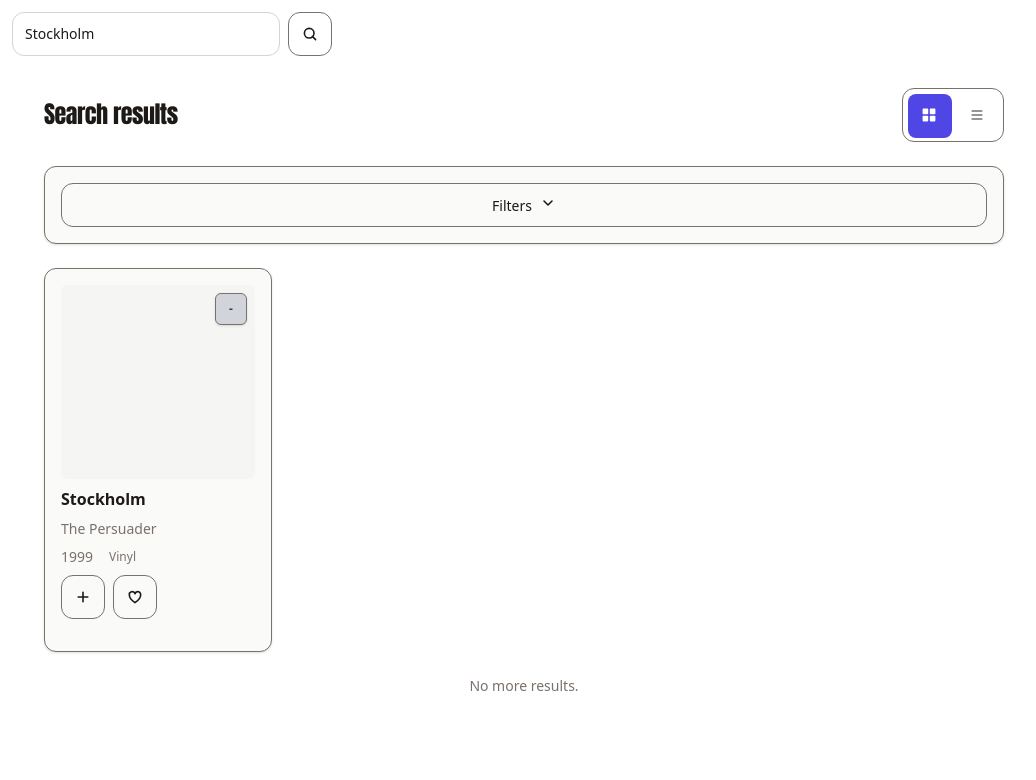
Search results flow (US2) › renders matching result cards with a working add action from a query already in the URL
Expected: the text "Stockholm" is shown, x1=61 y1=488 x2=146 y2=510
Click the button named "add to library" at (83, 597), box x1=61 y1=575 x2=105 y2=619
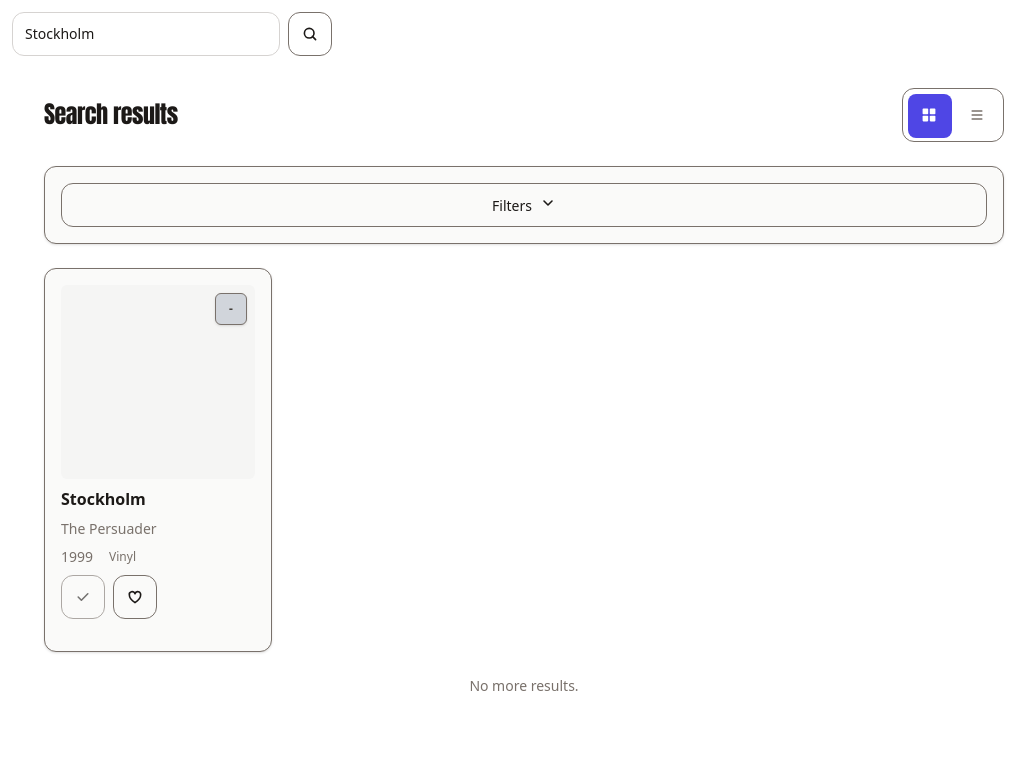
Result: the button named "added to library" is shown at x1=61 y1=575 x2=105 y2=619
